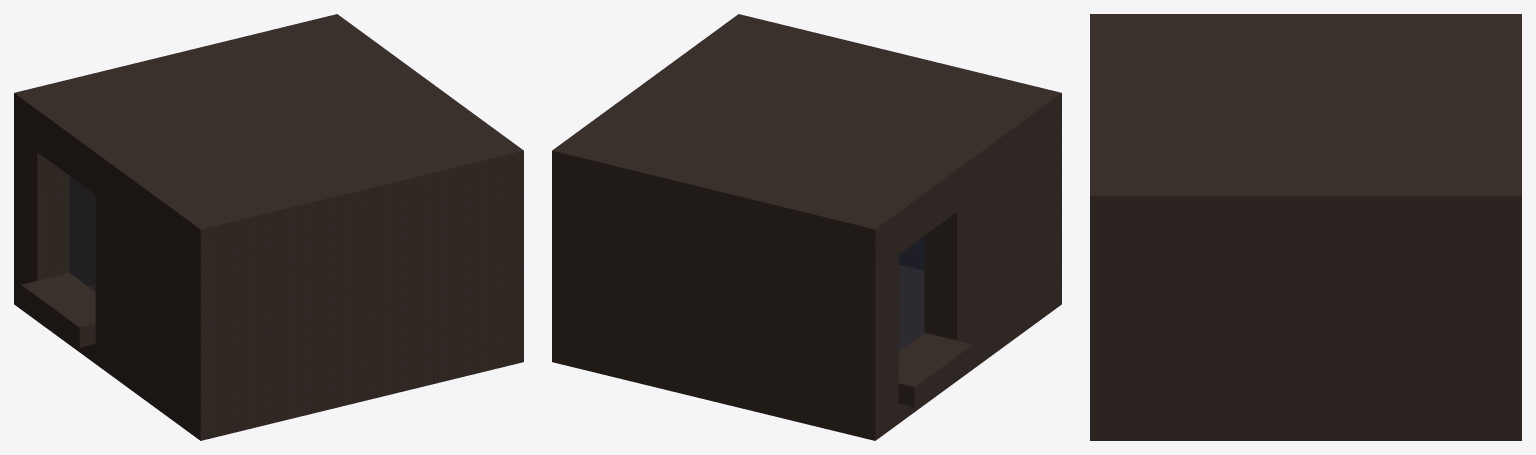
Rendered from modularBuildings_062.obj.
3 renders of one model, left to right at view 1: azimuth 30°, elevation 25°; view 2: azimuth 150°, elevation 25°; view 3: azimuth 270°, elevation 25°, orthographic. The views are drawn at different scales.
Visible parts, largest first — view 1: Mesh1 Group1 Model; view 2: Mesh1 Group1 Model; view 3: Mesh1 Group1 Model.
Boxes of the visible parts, bbox=[...] form: Mesh1 Group1 Model: bbox=[14, 14, 523, 440]; Mesh1 Group1 Model: bbox=[552, 14, 1061, 440]; Mesh1 Group1 Model: bbox=[1090, 14, 1521, 440].
Bounding box in the file's own units: 1.05 × 0.625 × 1.
3 materials, 3 textured.
